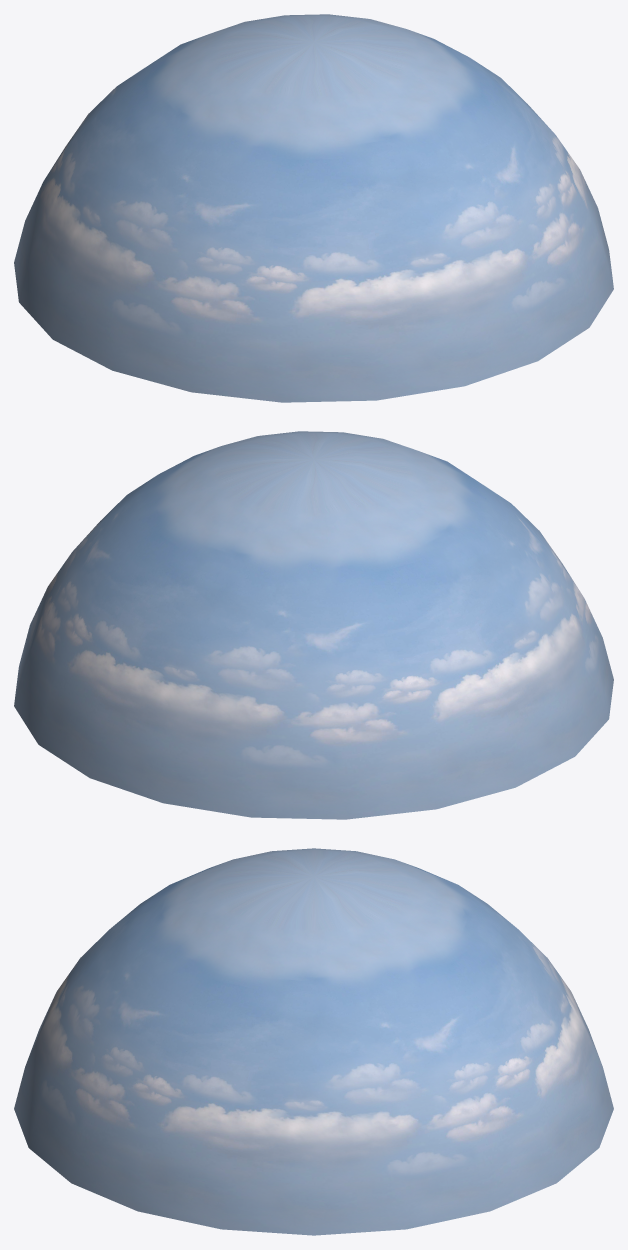
Rendered from Austin_track_cloud.dae.
3 renders of one model, top to bottom at view 1: azimuth 30°, elevation 25°; view 2: azimuth 150°, elevation 25°; view 3: azimuth 270°, elevation 25°, orthographic.
Visible parts, largest first — view 1: Austin_track_cloud; view 2: Austin_track_cloud; view 3: Austin_track_cloud.
Boxes of the visible parts, <box> form: Austin_track_cloud: <box>14,14,613,402</box>; Austin_track_cloud: <box>14,431,613,819</box>; Austin_track_cloud: <box>14,848,613,1235</box>.
Size of the model in its own units: 1288 by 1288 by 550.
1 material, 1 textured.
